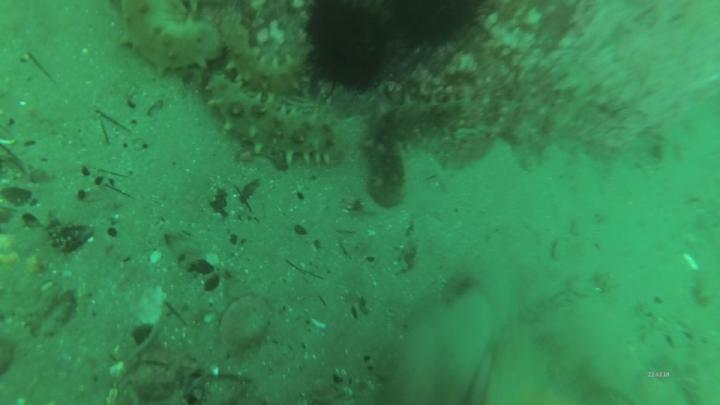echinus: (300, 1, 390, 98), (374, 1, 490, 57)
holothurian: (205, 75, 340, 173), (363, 97, 475, 210), (218, 15, 323, 101), (117, 1, 224, 73)
